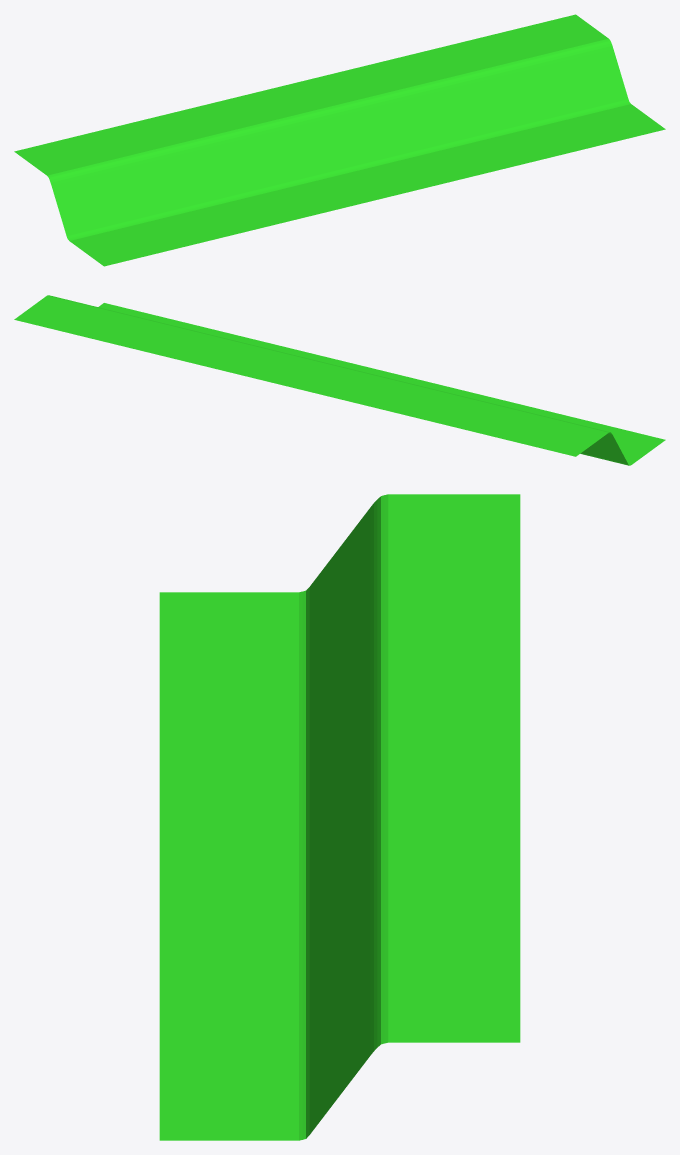
The model's file is terrain.glb.
3 renders of one model, top to bottom at view 1: azimuth 30°, elevation 25°; view 2: azimuth 150°, elevation 25°; view 3: azimuth 270°, elevation 25°, orthographic. The views are drawn at different scales.
Parts seen in each view (by area): view 1: Plane; view 2: Plane; view 3: Plane.
Boxes of the visible parts, x1,y1,x2,y2 form: Plane: (14,14,665,266); Plane: (14,295,665,465); Plane: (159,494,520,1140).
Bounding box in the file's own units: 180 × 15 × 50.
